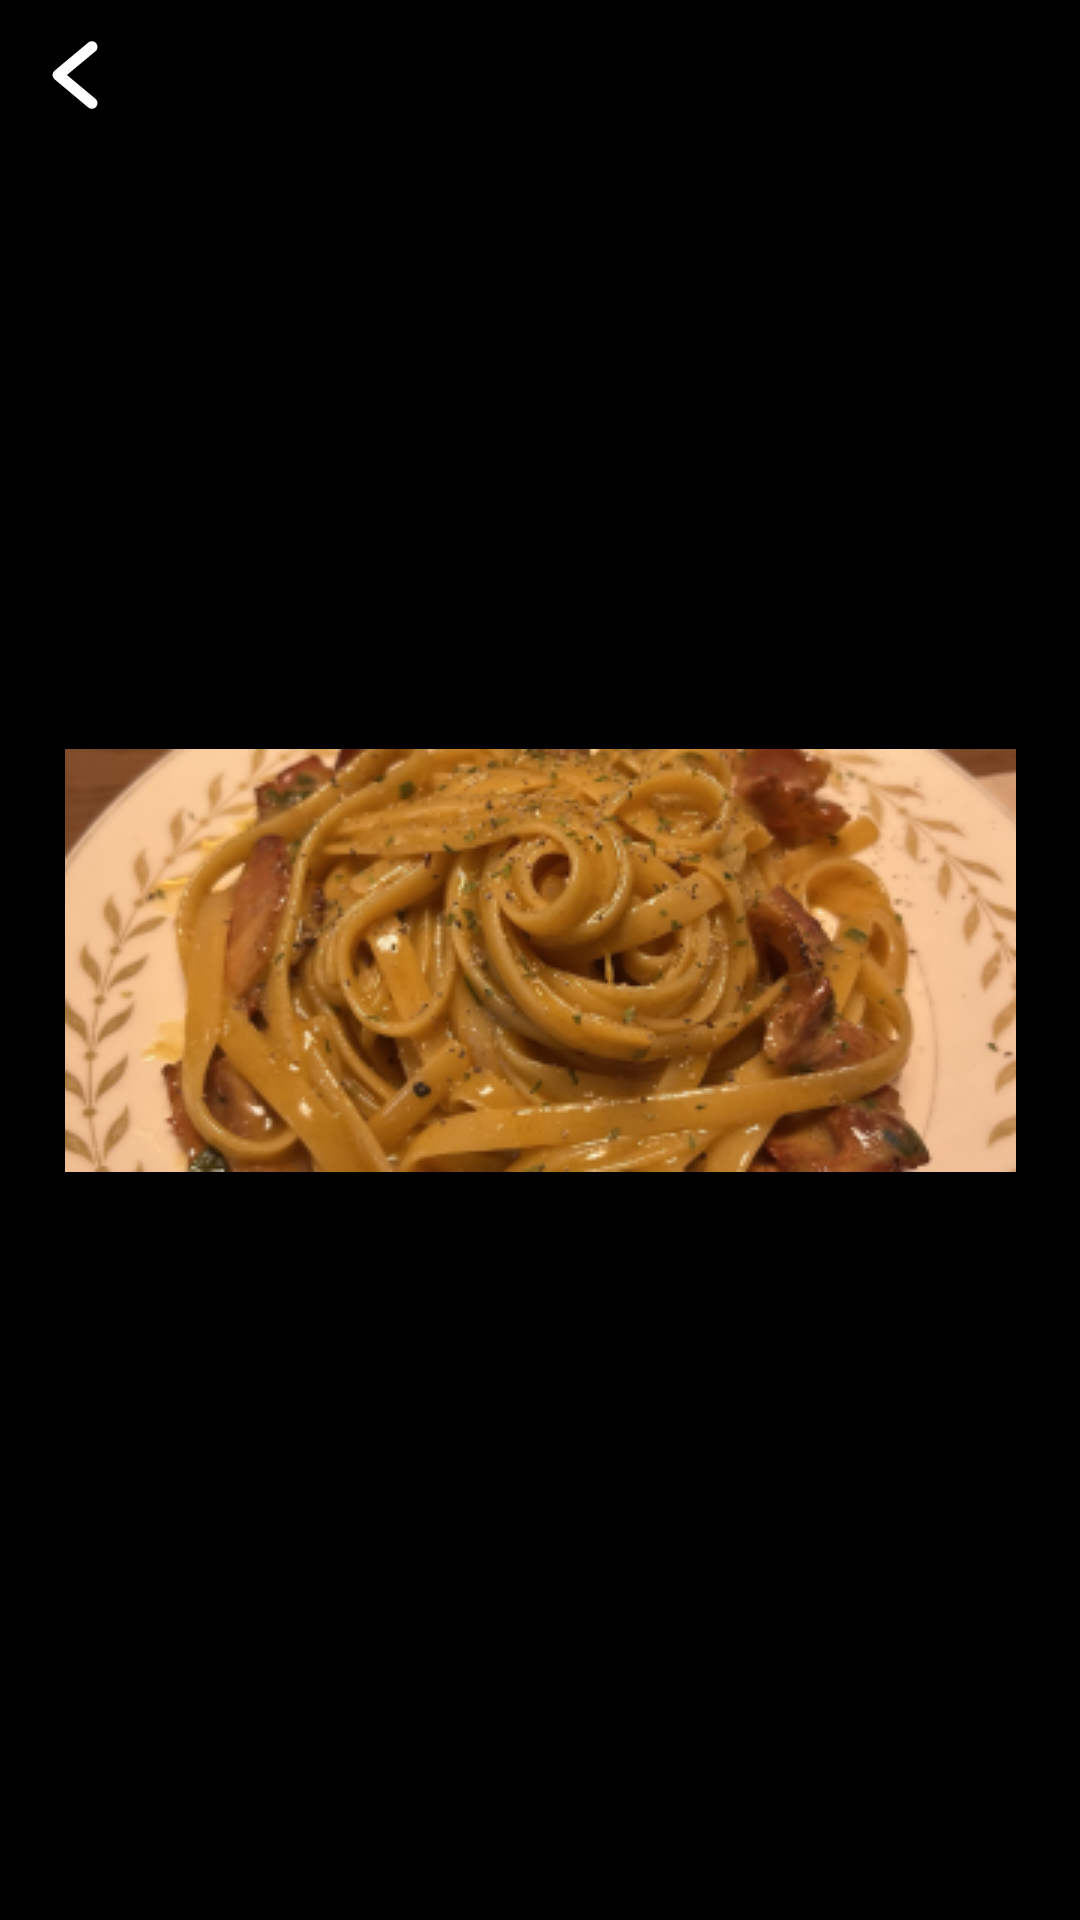

Named icons in this screenshot (1080*1920) and their centers, (x=x, y=y):
back: (x=75, y=75)
